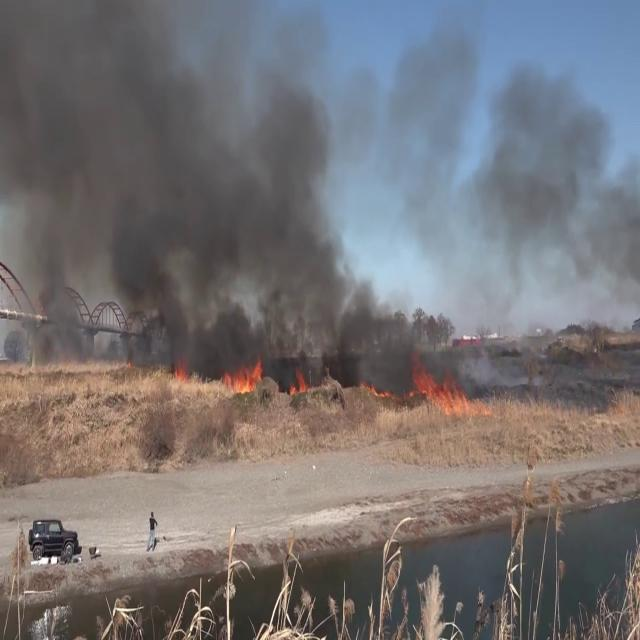Fire: (414, 368, 492, 418), (228, 354, 268, 394)
Smoke: (0, 0, 349, 364), (352, 37, 640, 375)
